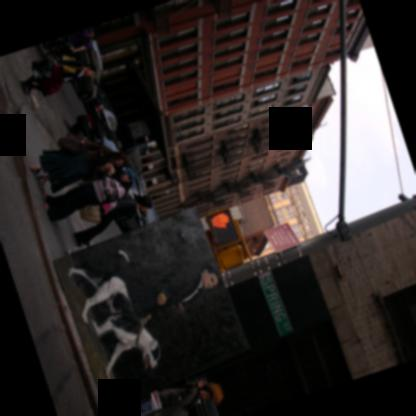backpack: (99, 201, 117, 215)
handbag: (56, 132, 93, 146), (31, 58, 54, 78), (79, 206, 100, 224), (59, 143, 92, 152), (62, 55, 74, 72)
